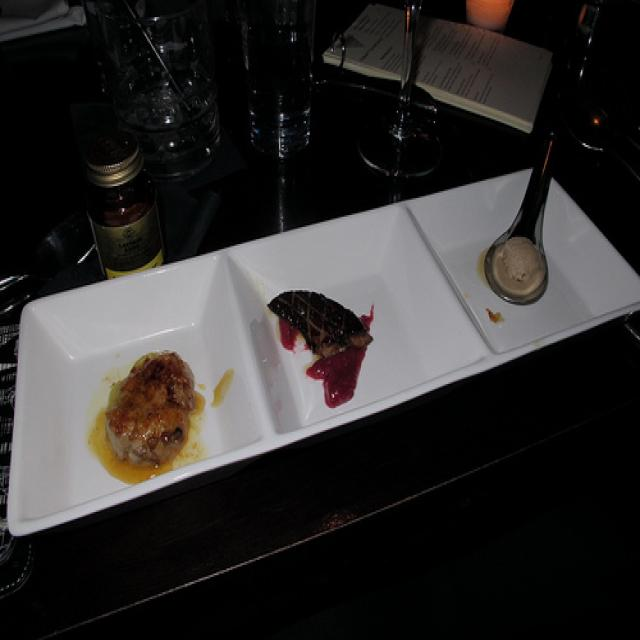Bottle: (67, 98, 166, 282)
Cup: (362, 0, 465, 180), (113, 0, 217, 149), (246, 0, 329, 166)
Table: (0, 0, 640, 621)
